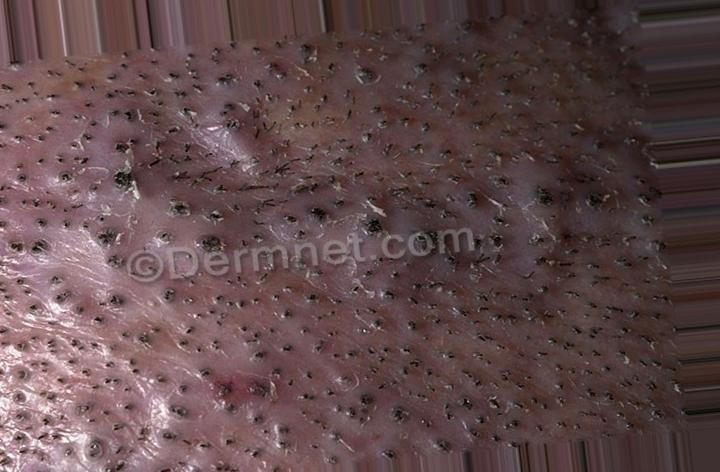Folliculitis: (110, 75, 439, 199)
